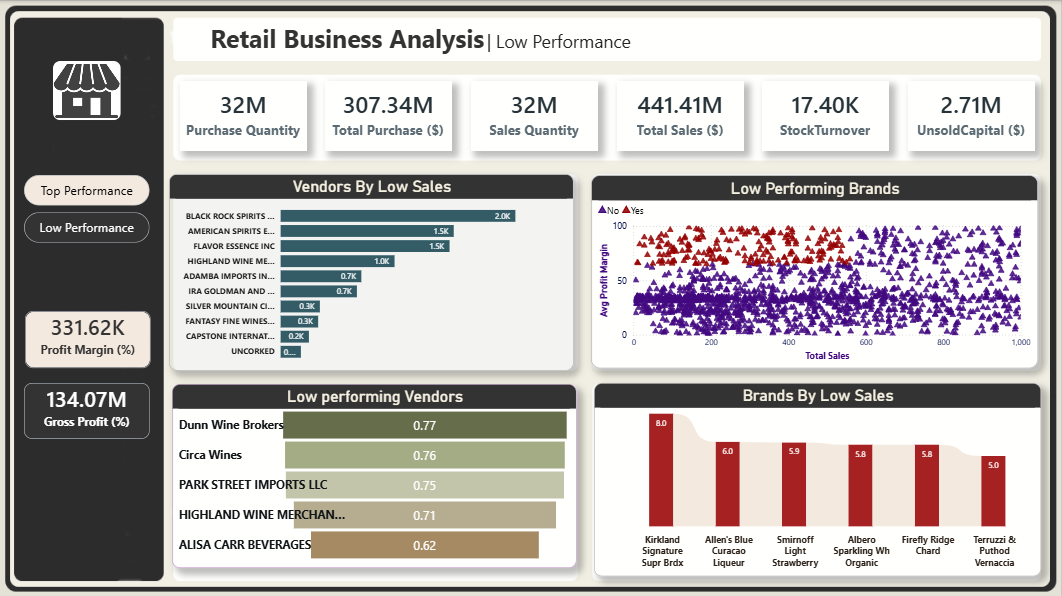

Layout of this report page (visuals, bound fields, positions):
{"tool":"powerbi","page":{"name":"Low Performance ","canvas":[1600,900],"ordinal":1},"visuals":[{"type":"barChart","title":"Vendors By Low Sales","fields":{"Category":["Business Performance Analysis.VendorName"],"Y":["Sum(Business Performance Analysis.TotalSalesDollars)"]},"box":[258.1,261.5,609,295.9],"z":2000},{"type":"ribbonChart","title":"Brands By Low Sales","fields":{"Category":["Business Performance Analysis.Description"],"Y":["Sum(Business_Summary.TotalSalesDollars)"]},"box":[896.3,576.3,672.7,290.8],"z":3000},{"type":"cardVisual","fields":{"Data":["Sum(Business Performance Analysis.UnsoldCapital)"]},"box":[1369.5,122.2,191,104.9],"z":4000},{"type":"textbox","box":[314.8,27.5,942.8,63.7],"z":5000},{"type":"cardVisual","fields":{"Data":["Sum(Business Performance Analysis.GrossProfit)"]},"box":[39.6,576.3,189.2,84.3],"z":6000},{"type":"cardVisual","fields":{"Data":["Sum(Business Performance Analysis.ProfitMargin)"]},"box":[41.3,468,189.2,86],"z":7000},{"type":"cardVisual","fields":{"Data":["Sum(Business_Summary.TotalPurchaseDollars)"]},"box":[492.7,122.2,191,104.9],"z":8000},{"type":"cardVisual","fields":{"Data":["Sum(Business_Summary.TotalSalesQuantity)"]},"box":[711.9,122.2,191,104.9],"z":9000},{"type":"cardVisual","fields":{"Data":["Sum(Business_Summary.TotalSalesDollars)"]},"box":[931.1,122.2,191,104.9],"z":10000},{"type":"cardVisual","fields":{"Data":["Sum(Business_Summary.StockTurnover)"]},"box":[1150.3,122.2,191,104.9],"z":11000},{"type":"cardVisual","fields":{"Data":["Sum(Business_Summary.TotalPurchaseQuantity)"]},"box":[273.5,122.2,191,104.9],"z":12000},{"type":"scatterChart","title":"Low Performing Brands","fields":{"Category":["BrandPerformance.Description"],"Series":["BrandPerformance.TargetBrand"],"X":["Sum(BrandPerformance.TotalSales)"],"Y":["Sum(BrandPerformance.AvgProfitMargin)"]},"box":[892.9,263.2,672.7,290.8],"z":13001},{"type":"funnel","title":"Low performing Vendors","fields":{"Category":["LowTurnoverVendor.VendorName"],"Y":["Sum(LowTurnoverVendor.AvgStockTurnOver)"]},"box":[261.5,578.1,609,277],"z":13002},{"type":"pageNavigator","box":[39.6,263.2,189.2,103.2],"z":13003},{"type":"image","box":[82.6,91.2,101.5,89.5],"z":13004}]}

Visuals, with their boxes in screenshot pixels (x1, y1, x2, y2), scaled from the page's 1600x900 canvas onto the 1062x596 screenshot:
"Vendors By Low Sales" barChart: l=171, t=173, r=576, b=369
"Brands By Low Sales" ribbonChart: l=595, t=382, r=1041, b=574
cardVisual - Sum(Business Performance Analysis.UnsoldCapital): l=909, t=81, r=1036, b=150
textbox: l=209, t=18, r=835, b=60
cardVisual - Sum(Business Performance Analysis.GrossProfit): l=26, t=382, r=152, b=437
cardVisual - Sum(Business Performance Analysis.ProfitMargin): l=27, t=310, r=153, b=367
cardVisual - Sum(Business_Summary.TotalPurchaseDollars): l=327, t=81, r=454, b=150
cardVisual - Sum(Business_Summary.TotalSalesQuantity): l=473, t=81, r=599, b=150
cardVisual - Sum(Business_Summary.TotalSalesDollars): l=618, t=81, r=745, b=150
cardVisual - Sum(Business_Summary.StockTurnover): l=764, t=81, r=890, b=150
cardVisual - Sum(Business_Summary.TotalPurchaseQuantity): l=182, t=81, r=308, b=150
"Low Performing Brands" scatterChart: l=593, t=174, r=1039, b=367
"Low performing Vendors" funnel: l=174, t=383, r=578, b=566
pageNavigator: l=26, t=174, r=152, b=243
image: l=55, t=60, r=122, b=120
